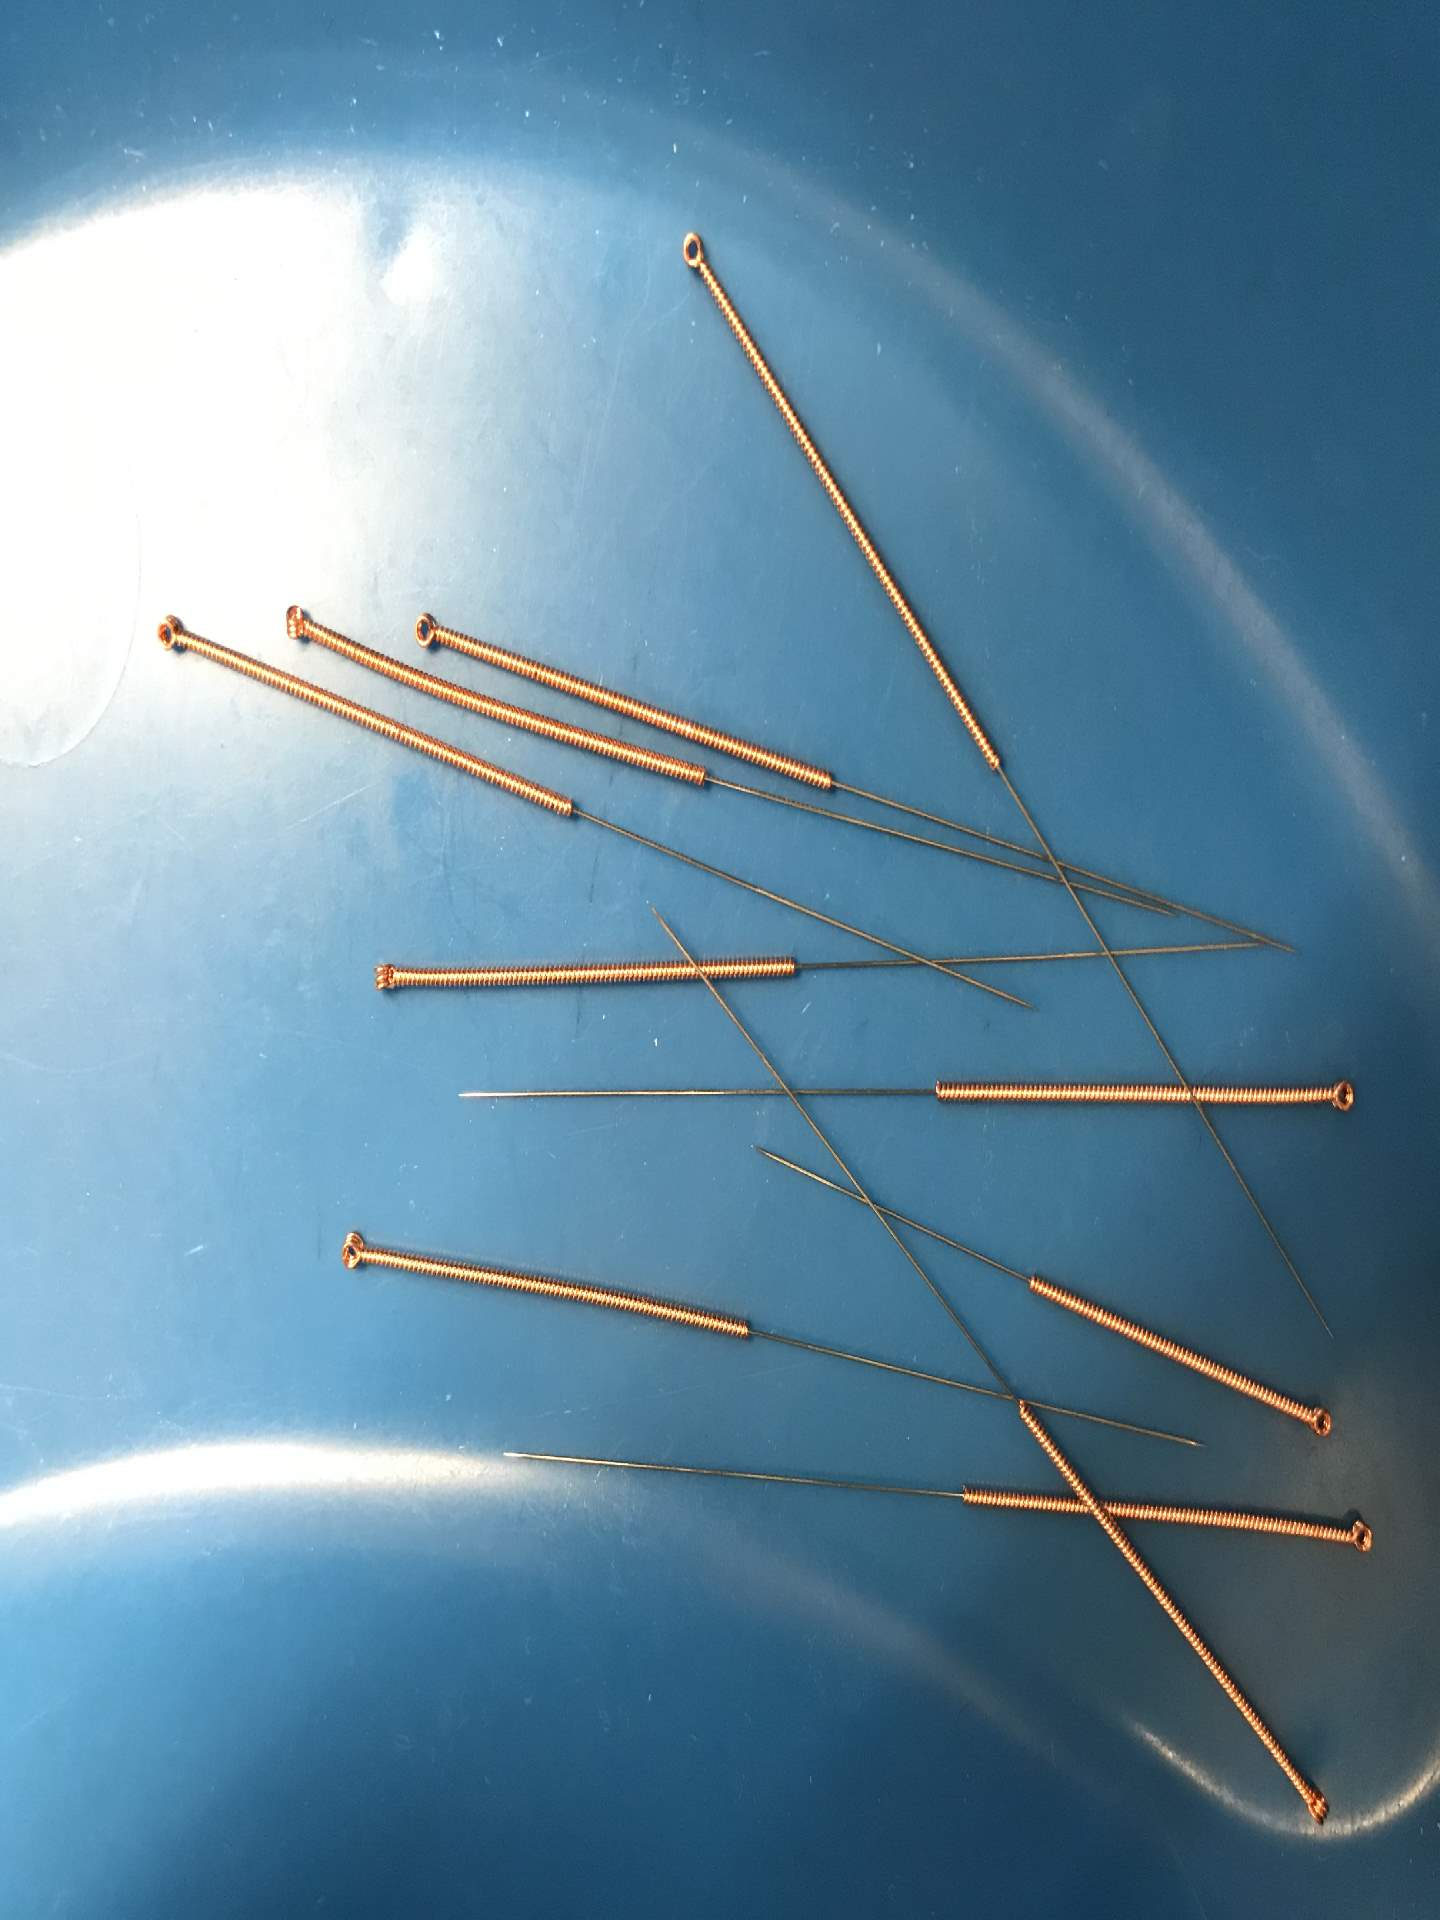needle: (1330, 1504, 1386, 1568), (325, 1222, 380, 1285), (144, 602, 197, 665), (269, 596, 327, 653), (670, 213, 715, 286), (1290, 1773, 1340, 1838), (1290, 1392, 1345, 1451), (399, 602, 455, 658), (358, 951, 411, 1008), (1311, 1070, 1364, 1122)
